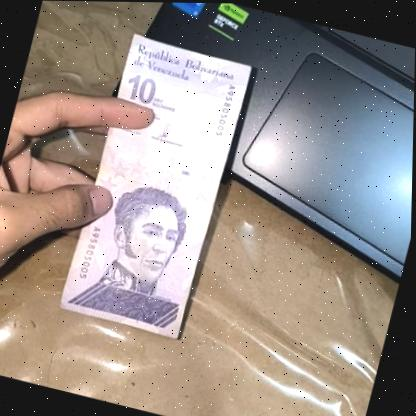ten-front-vef: (59, 31, 254, 341)
